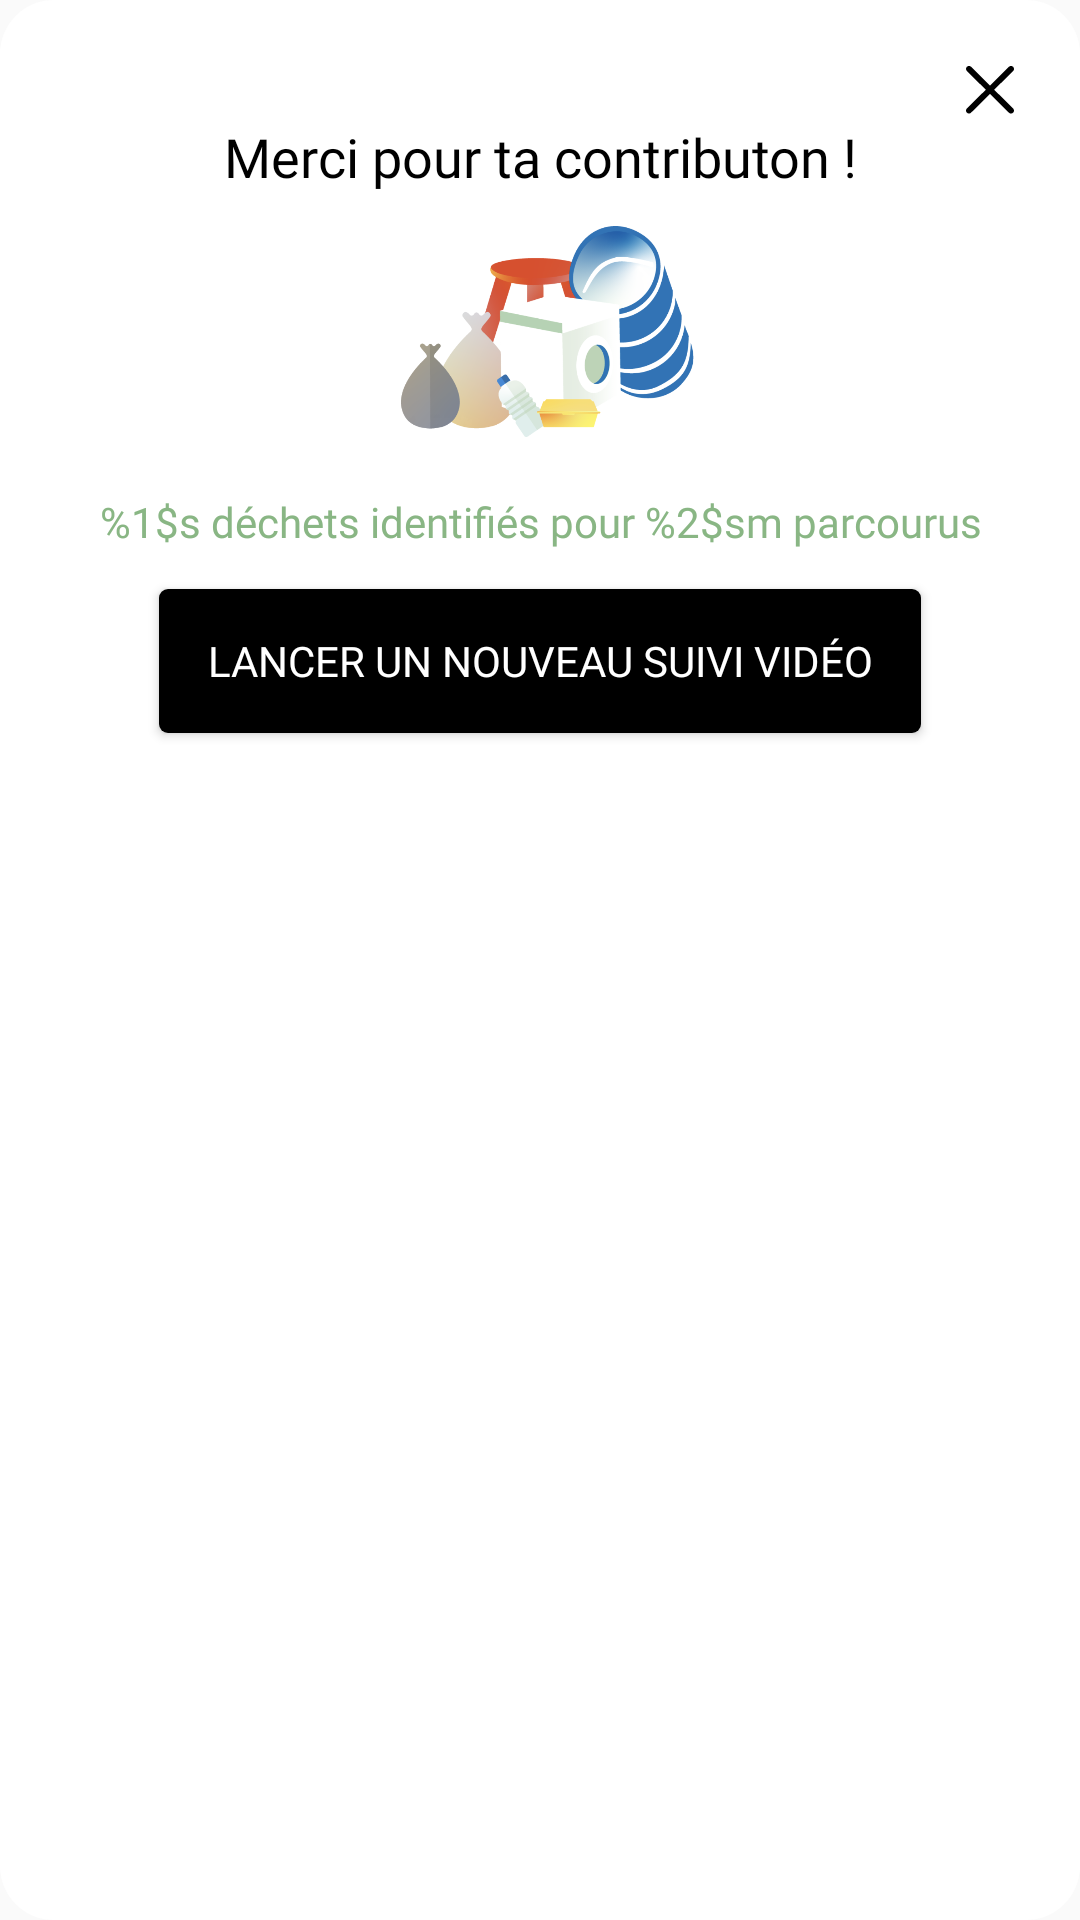

Screen size 1080*1920. Icon name, then its box in pixels as bbox(x1, y1, x2, y2):
clear: bbox(966, 66, 1014, 114)
waste: bbox(401, 226, 694, 437)
